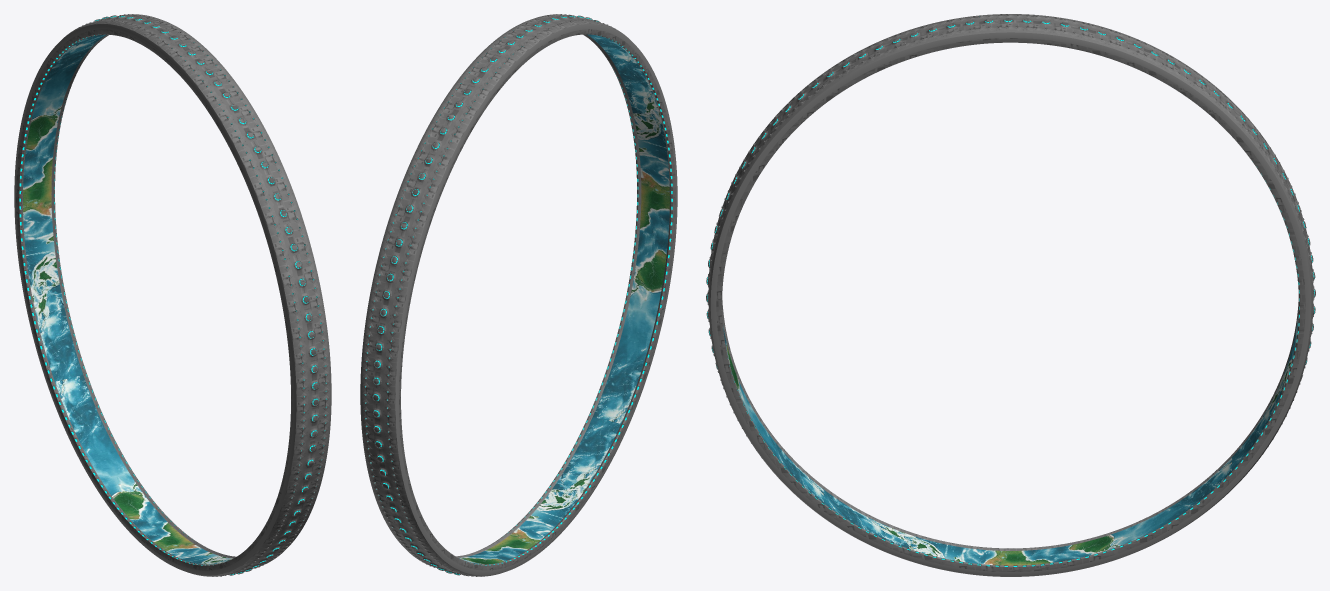
The model's file is Halo.gltf.
3 renders of one model, left to right at view 1: azimuth 30°, elevation 25°; view 2: azimuth 150°, elevation 25°; view 3: azimuth 270°, elevation 25°, orthographic. The views are drawn at different scales.
Visible parts, largest first — view 1: Halo; view 2: Halo; view 3: Halo.
Part boxes in pixels (x1,y1,x2,y2): Halo: (14,14,331,576); Halo: (360,14,677,576); Halo: (706,14,1315,576).
Size of the model in its own units: 150 by 2018 by 2018.
